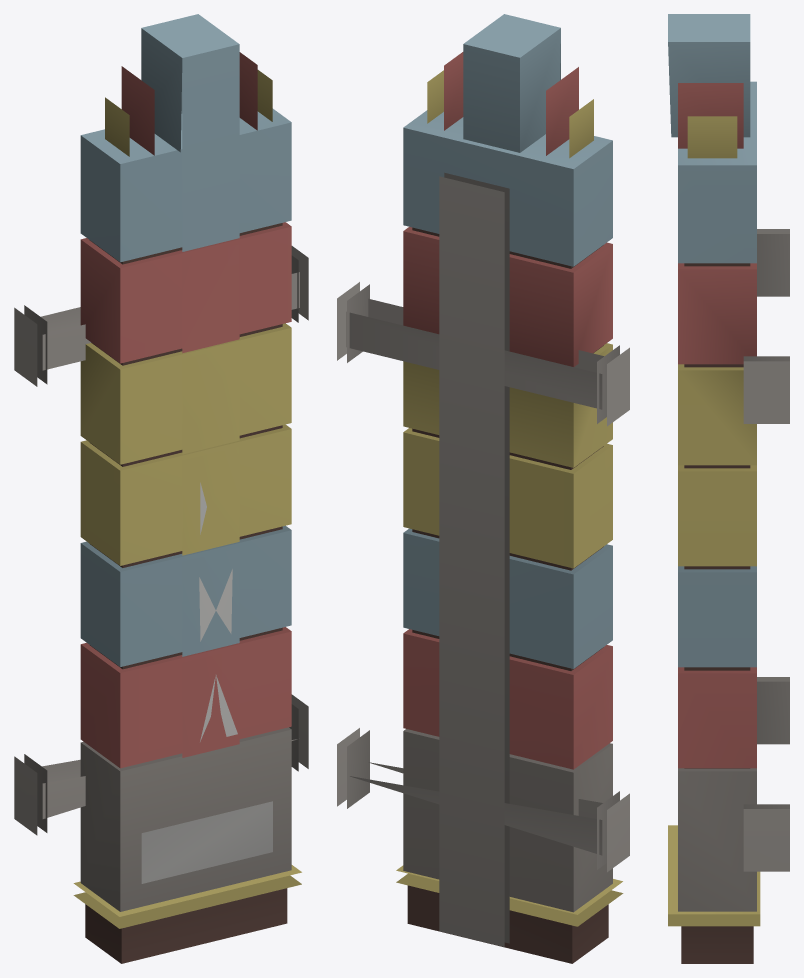
File: theatersign.lod.glb
3 renders of one model, left to right at view 1: azimuth 30°, elevation 25°; view 2: azimuth 150°, elevation 25°; view 3: azimuth 270°, elevation 25°, orthographic.
Visible parts, largest first — view 1: theatersign; view 2: theatersign; view 3: theatersign.
Part boxes in pixels (left/top/right/bottom): theatersign: left=14, top=14, right=308, bottom=963; theatersign: left=337, top=14, right=629, bottom=963; theatersign: left=668, top=14, right=789, bottom=963.
Bounding box in the file's own units: 1.9 × 6 × 0.8.
